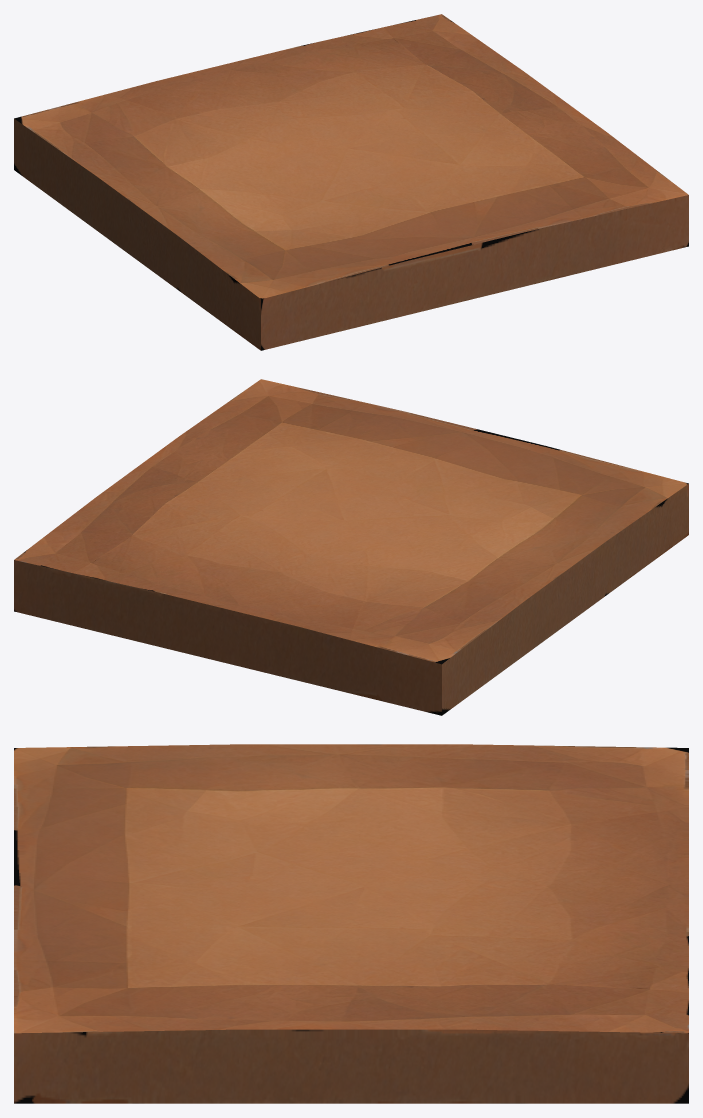
File: Soil_Base.fbx
3 views of the same model, one above another, from view 1: azimuth 30°, elevation 25°; view 2: azimuth 150°, elevation 25°; view 3: azimuth 270°, elevation 25° (orthographic). The views are drawn at different scales.
Visible parts, largest first — view 1: Ground_Tile_LP; view 2: Ground_Tile_LP; view 3: Ground_Tile_LP.
Boxes of the visible parts, x1,y1,x2,y2 form: Ground_Tile_LP: (14,14,688,350); Ground_Tile_LP: (14,379,688,715); Ground_Tile_LP: (14,744,688,1103).
Bounding box in the file's own units: 100 × 13.25 × 100.
Materials: 1 (1 with a texture image).
